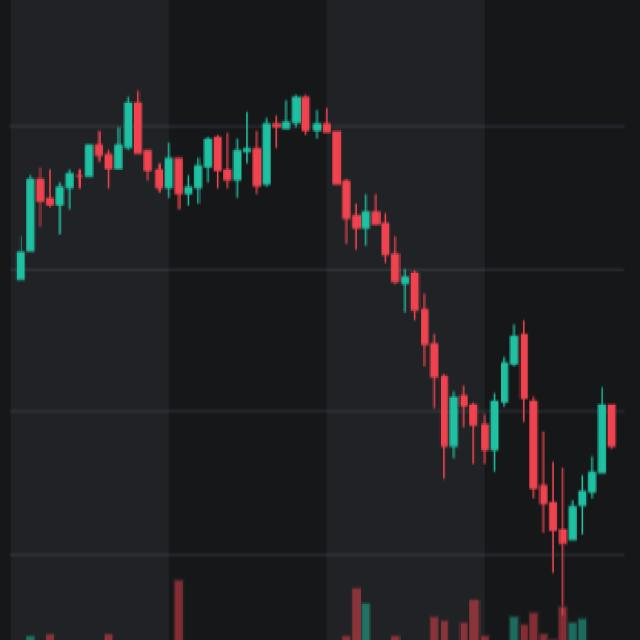Support-breakout: (248, 71, 450, 468)
